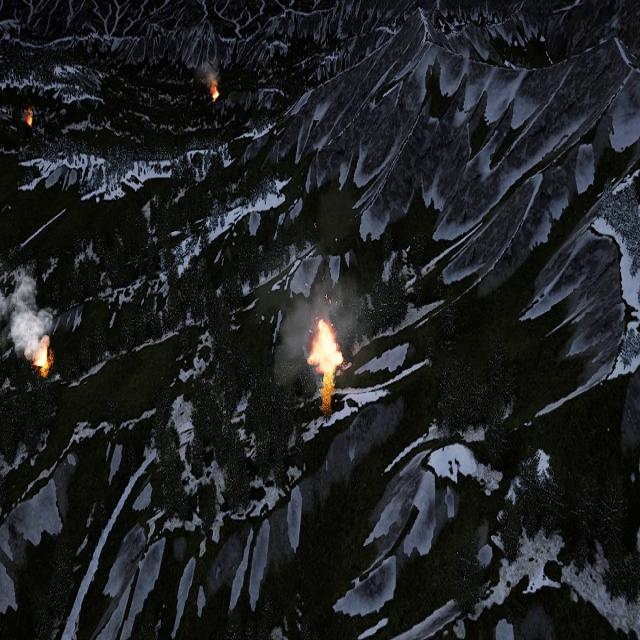fire: (309, 321, 342, 377), (34, 341, 51, 373), (211, 84, 220, 101), (26, 110, 35, 126)
smoke: (264, 276, 371, 378), (0, 270, 52, 359), (197, 57, 221, 85)
